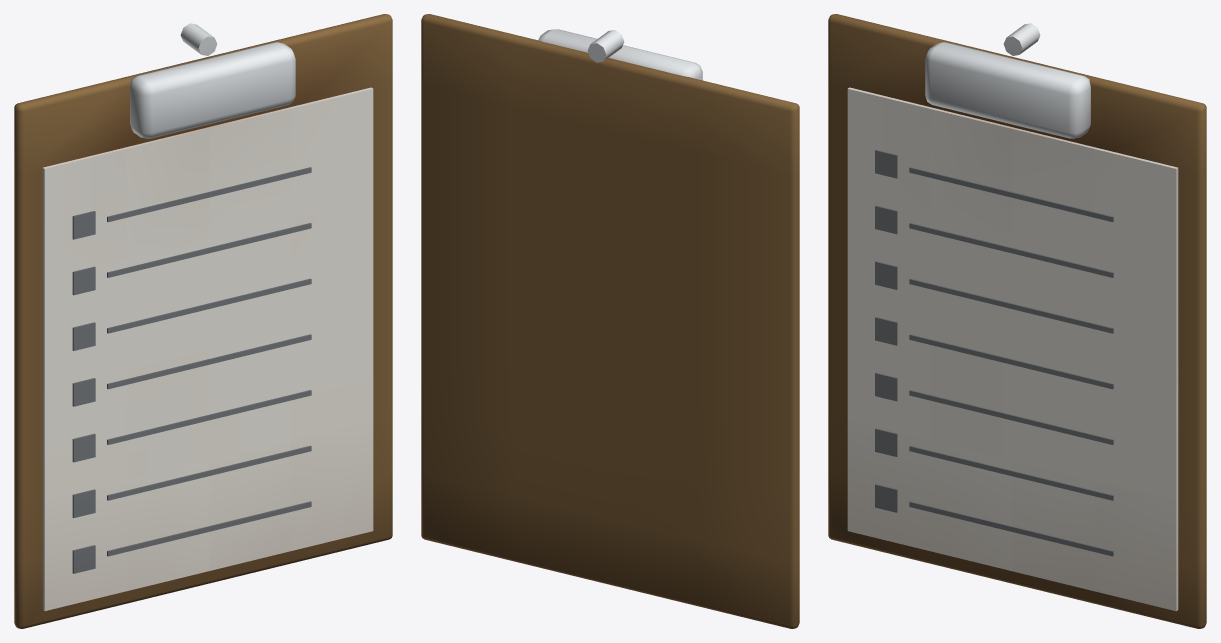
File: fp-clipboard.gltf
3 renders of one model, left to right at view 1: azimuth 30°, elevation 25°; view 2: azimuth 150°, elevation 25°; view 3: azimuth 330°, elevation 25°, orthographic.
Parts seen in each view (by area): view 1: model; view 2: model; view 3: model.
Part boxes in pixels (x1,y1,x2,y2): model: [14, 14, 392, 628]; model: [421, 14, 799, 628]; model: [828, 14, 1206, 628].
Bounding box in the file's own units: 0.24 × 0.336 × 0.035.
